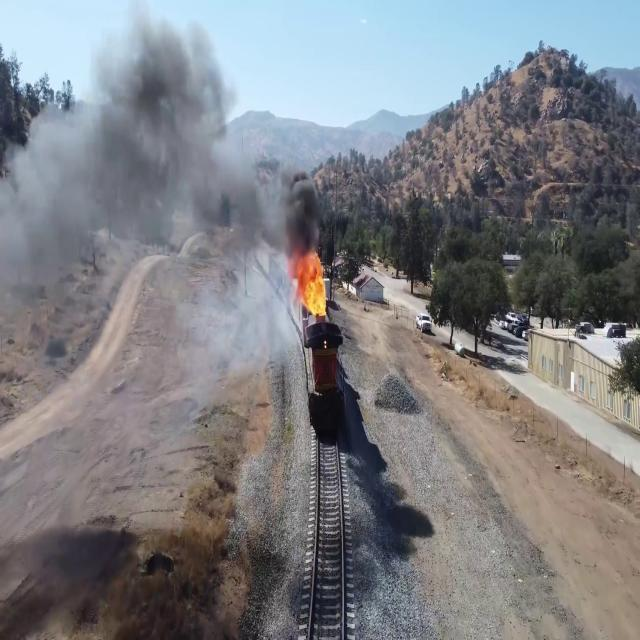Fire: (288, 252, 330, 328)
Smoke: (94, 25, 213, 209), (0, 111, 98, 262), (286, 177, 333, 247)
